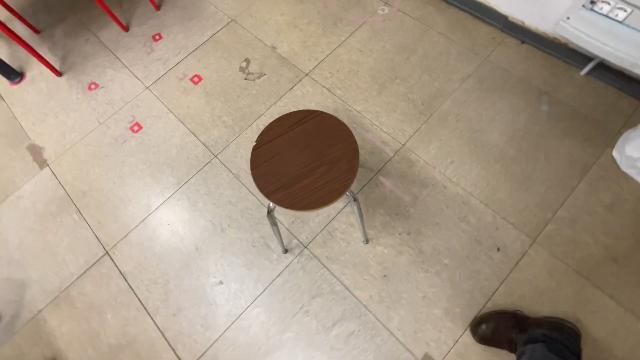Chair: (0, 0, 134, 78)
Stool: (246, 105, 372, 255)
